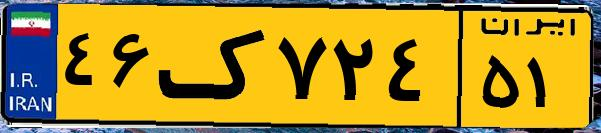1: (525, 38, 570, 115)
2: (330, 28, 385, 110)
4: (385, 28, 445, 110), (57, 26, 110, 100)
5: (475, 38, 525, 113)
6: (110, 28, 158, 98)
7: (270, 28, 330, 110)
ک: (158, 12, 270, 120)
